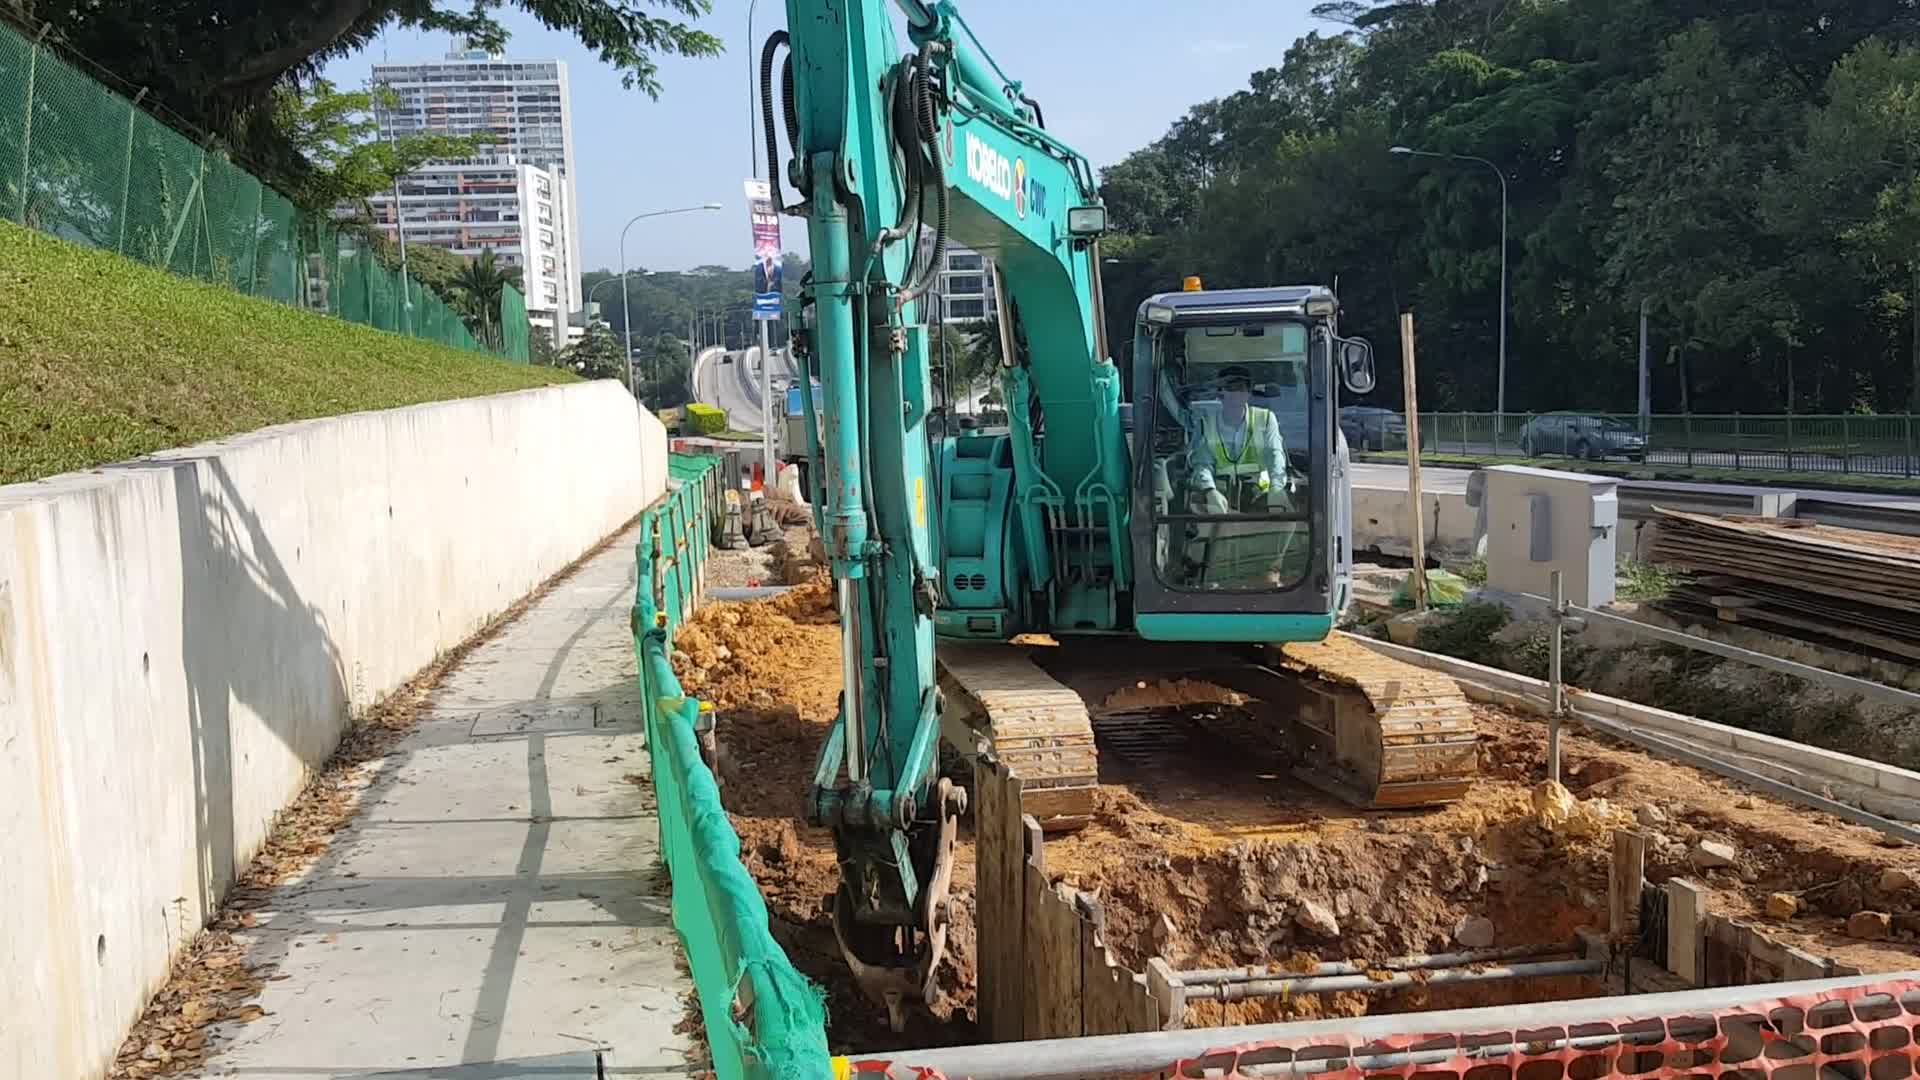cabin: (934, 276, 1356, 641)
forearm: (781, 1, 940, 800)
upperarm: (913, 94, 1139, 628)
wheelbase: (932, 636, 1487, 818)
